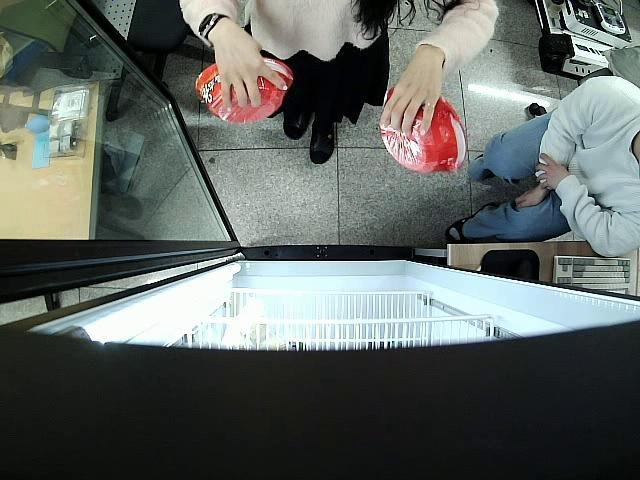10_wangTtukkeong: (380, 84, 467, 174), (196, 56, 292, 123)
